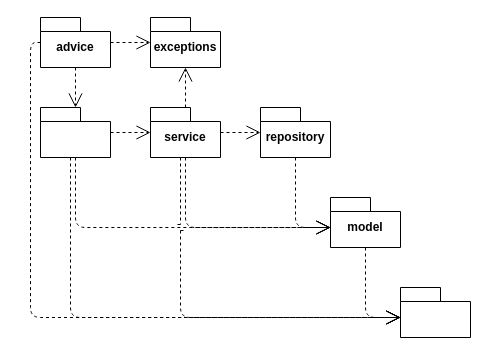
The diagram is 488 pixels wide and 355 high, and some of its shapes have lost their labels. The shapes that lost their labels are listed below. From the top down, each one's centre as x and y in pixels, then its label:
At [75,132]: "controller".
At [435,312]: "utils".
